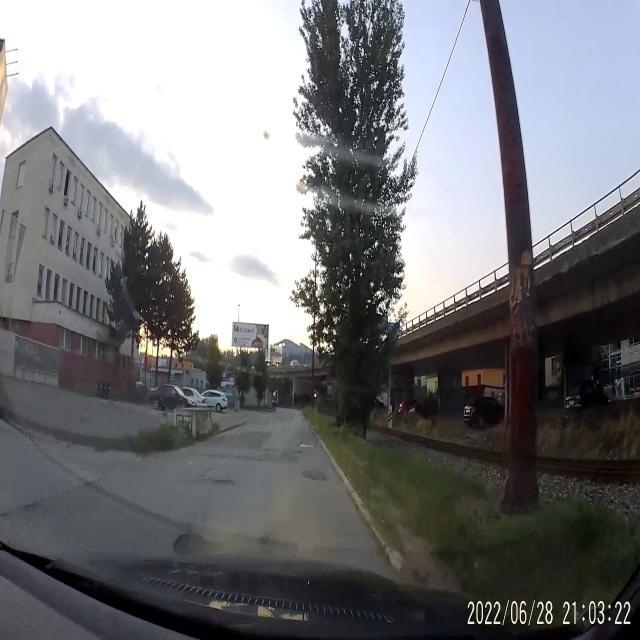Pothole: (170, 528, 212, 550), (302, 466, 328, 484), (211, 477, 239, 490), (298, 438, 316, 452)
